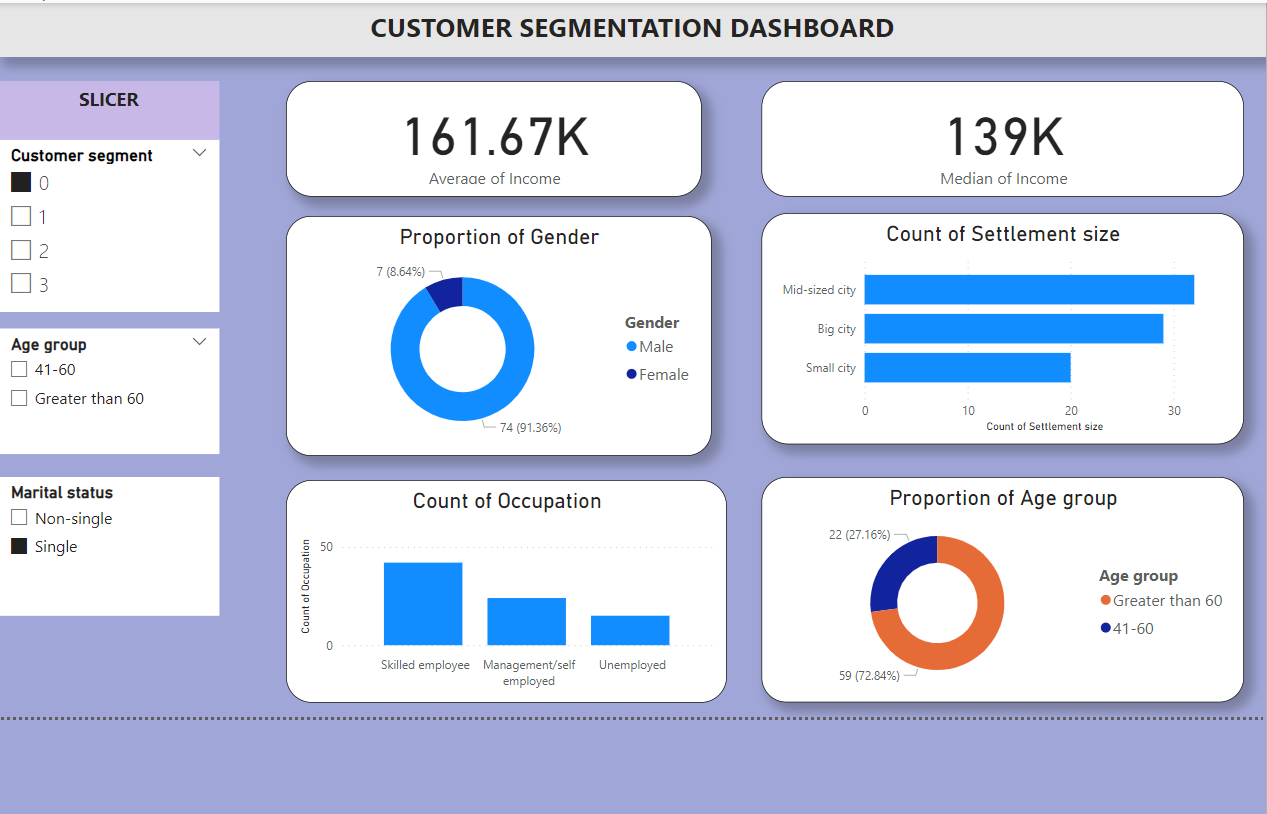

This screenshot's page, from the dashboard's own definition file:
{"tool":"powerbi","page":{"name":"Page 1","canvas":[1280,720],"ordinal":0},"visuals":[{"type":"slicer","fields":{"Values":["customer_segment.customer_segment"]},"box":[0,138.2,223.2,174.2],"z":0},{"type":"donutChart","title":"Proportion of Age group","fields":{"Y":["CountNonNull(customer_segment.Age_group)"],"Category":["customer_segment.Age_group"]},"box":[770.4,478.1,486.7,227.5],"z":1000},{"type":"card","fields":{"Values":["Avg(customer_segment.Income)"]},"box":[290.9,79.2,419,116.6],"z":2000},{"type":"columnChart","title":"Count of Occupation ","fields":{"Y":["CountNonNull(customer_segment.Occupation)"],"Category":["customer_segment.Occupation"]},"box":[290.9,481,445,224.6],"z":3000},{"type":"donutChart","title":"Proportion of Gender","fields":{"Y":["CountNonNull(customer_segment.Sex)"],"Category":["customer_segment.Sex"]},"box":[290.9,214.6,429.1,241.9],"z":4000},{"type":"barChart","title":"Count of Settlement size","fields":{"Category":["customer_segment.Settlement size"],"Y":["CountNonNull(customer_segment.Settlement size)"]},"box":[770.4,211.7,486.7,233.3],"z":5000},{"type":"card","fields":{"Values":["Median(customer_segment.Income)"]},"box":[770.4,79.2,486.7,116.6],"z":6000},{"type":"slicer","fields":{"Values":["customer_segment.Marital status"]},"box":[0,478.1,223.2,139.7],"z":7000},{"type":"slicer","fields":{"Values":["customer_segment.Age_group"]},"box":[0,328.3,223.2,126.7],"z":7001},{"type":"shape","box":[0,0,1280.2,54.7],"z":7002},{"type":"textbox","box":[0,0,1280.2,54.7],"z":7003},{"type":"textbox","box":[0,79.2,223.2,59],"z":7004}]}

Visuals, with their boxes in screenshot pixels (x1, y1, x2, y2):
slicer - customer_segment.customer_segment: (left=7, top=138, right=224, bottom=308)
"Proportion of Age group" donutChart: (left=759, top=470, right=1234, bottom=692)
card - Avg(customer_segment.Income): (left=291, top=81, right=700, bottom=194)
"Count of Occupation " columnChart: (left=291, top=473, right=725, bottom=692)
"Proportion of Gender" donutChart: (left=291, top=213, right=709, bottom=449)
"Count of Settlement size" barChart: (left=759, top=210, right=1234, bottom=438)
card - Median(customer_segment.Income): (left=759, top=81, right=1234, bottom=194)
slicer - customer_segment.Marital status: (left=7, top=470, right=224, bottom=606)
slicer - customer_segment.Age_group: (left=7, top=324, right=224, bottom=447)
shape: (left=7, top=3, right=1256, bottom=57)
textbox: (left=7, top=3, right=1256, bottom=57)
textbox: (left=7, top=81, right=224, bottom=138)
